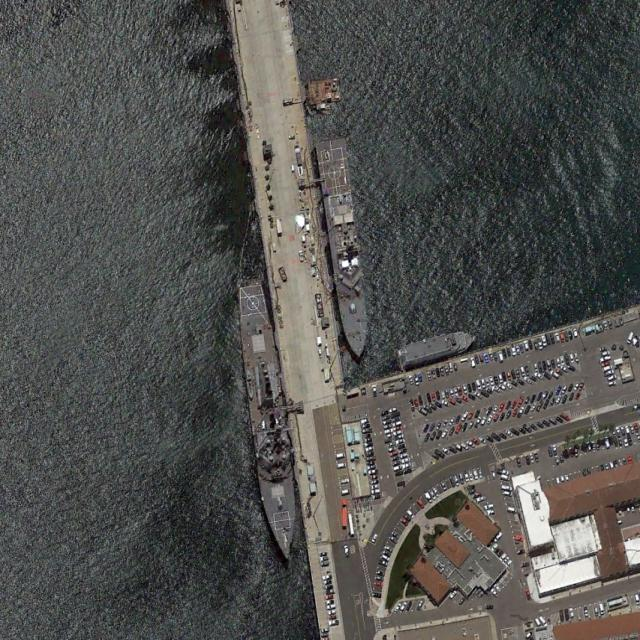Destroyer: (233, 281, 305, 563)
Other Ship: (392, 324, 481, 369)
Other Warship: (314, 136, 374, 360)
